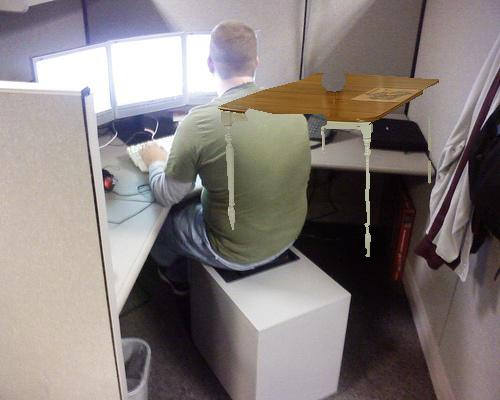tampered: (217, 74, 439, 257)
